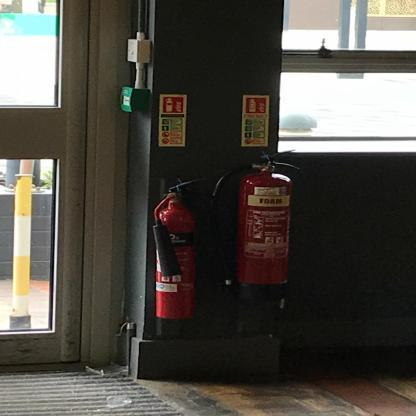Fire Extinguisher: (214, 142, 313, 320), (144, 162, 208, 346)
